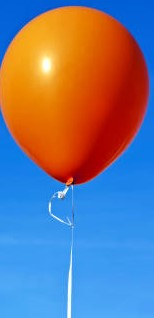Balloon: (1, 6, 148, 184)
